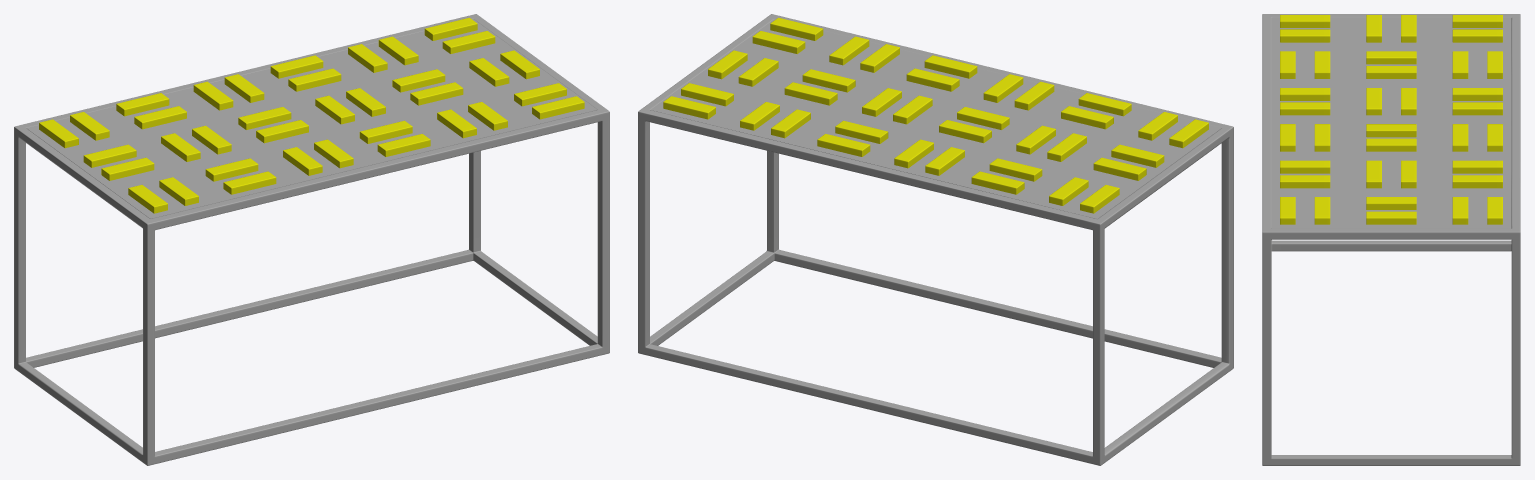
Rendered from Feet_SteelFrame_02.gltf.
3 renders of one model, left to right at view 1: azimuth 30°, elevation 25°; view 2: azimuth 150°, elevation 25°; view 3: azimuth 270°, elevation 25°, orthographic. The views are drawn at different scales.
Visible parts, largest first — view 1: polySurface6, polySurface7, base_top_028.001, base_top_029, base_top_026, base_top_038.001, base_top_025.001, base_top_030.001, base_top_025, base_top_030.002, base_top_026.001, base_top_027.001 (+26 smaller); view 2: polySurface6, polySurface7, base_top_026.001, base_top_028.001, base_top_030, base_top_021, base_top_038, base_top_025.002, base_top_038.001, base_top_027.001, base_top_025.001, base_top_030.001 (+26 smaller); view 3: polySurface7, polySurface6, base_top_036.002, base_top_023, base_top_022.001, base_top_037.001, base_top_033.001, base_top_024.001, base_top_036.001, base_top_023.001, base_top_031, base_top_032 (+26 smaller).
Part boxes in pixels (x1,y1,x2,y2): polySurface6: [14, 14, 609, 465]; polySurface7: [26, 19, 597, 218]; base_top_028.001: [392, 69, 445, 92]; base_top_029: [83, 144, 136, 167]; base_top_026: [205, 158, 258, 181]; base_top_038.001: [288, 68, 341, 91]; base_top_025.001: [377, 134, 430, 156]; base_top_030.001: [270, 55, 323, 78]; base_top_025: [223, 171, 276, 194]; base_top_030.002: [424, 17, 477, 40]; base_top_026.001: [359, 120, 412, 143]; base_top_027.001: [410, 82, 463, 105]; polySurface6: [638, 14, 1233, 465]; polySurface7: [650, 19, 1221, 218]; base_top_026.001: [906, 68, 959, 91]; base_top_028.001: [784, 82, 837, 105]; base_top_030: [971, 171, 1024, 194]; base_top_021: [1111, 144, 1164, 167]; base_top_038: [989, 158, 1042, 181]; base_top_025.002: [770, 17, 823, 40]; base_top_038.001: [835, 120, 888, 143]; base_top_027.001: [802, 69, 855, 92]; base_top_025.001: [924, 55, 977, 78]; base_top_030.001: [817, 134, 870, 156]; polySurface7: [1271, 17, 1511, 228]; polySurface6: [1262, 14, 1520, 465]; base_top_036.002: [1366, 211, 1416, 224]; base_top_023: [1366, 51, 1416, 64]; base_top_022.001: [1452, 175, 1502, 188]; base_top_037.001: [1280, 175, 1330, 188]; base_top_033.001: [1280, 160, 1330, 173]; base_top_024.001: [1452, 160, 1502, 173]; base_top_036.001: [1366, 138, 1416, 151]; base_top_023.001: [1366, 124, 1416, 137]; base_top_031: [1452, 29, 1502, 42]; base_top_032: [1280, 29, 1330, 42].
Bounding box in the file's own units: 0.72 × 0.37 × 0.36.
Materials: 2 (1 with a texture image).
